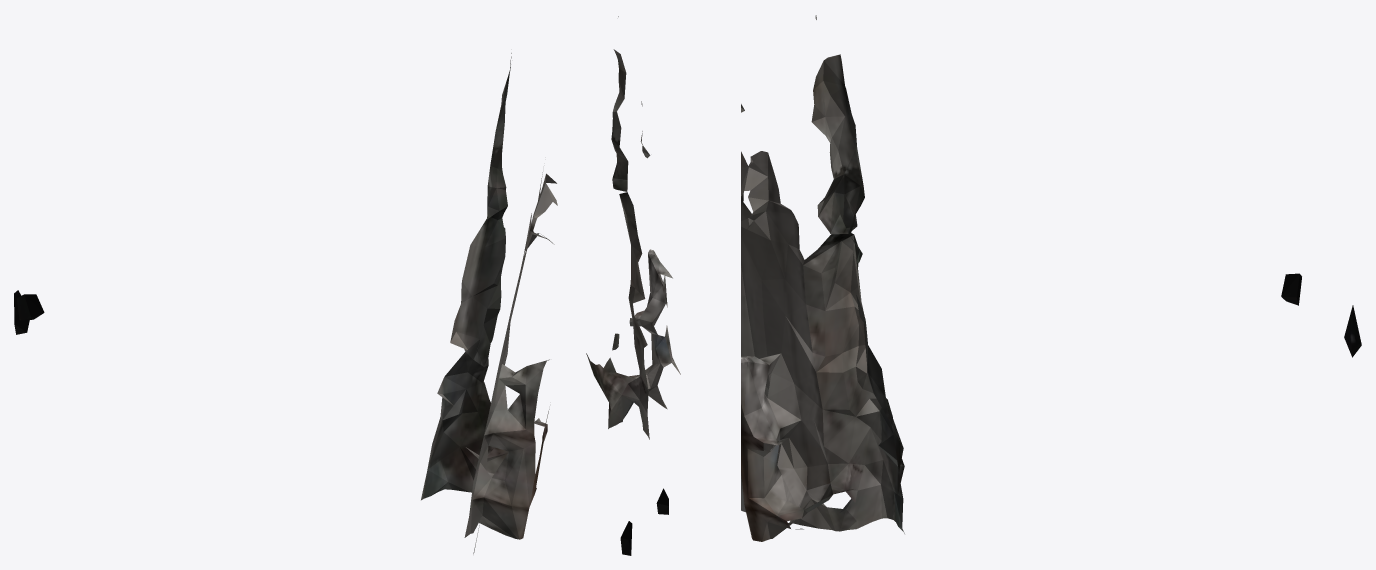
3 renders of one model, left to right at view 1: azimuth 30°, elevation 25°; view 2: azimuth 150°, elevation 25°; view 3: azimuth 270°, elevation 25°, orthographic. The views are drawn at different scales.
Size of the model in its own units: 0.7221 by 1.2 by 1.24.
Materials: 1 (1 with a texture image).
